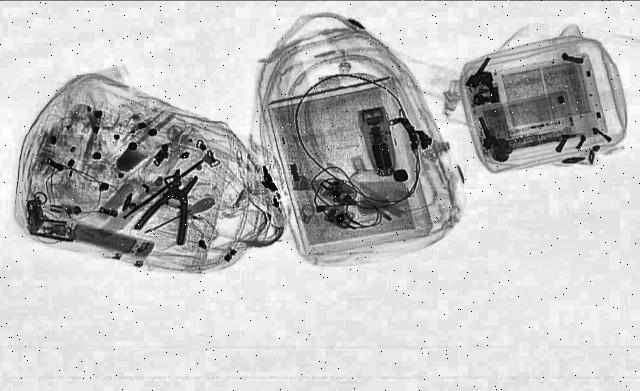Pliers: (132, 166, 218, 246)
